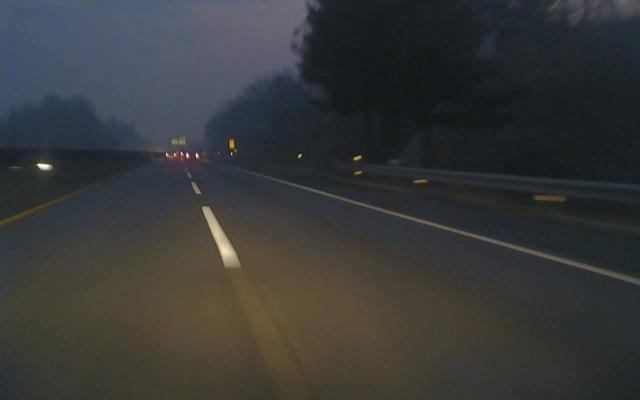lane: (247, 170, 640, 286), (0, 168, 134, 226), (185, 169, 245, 269)
